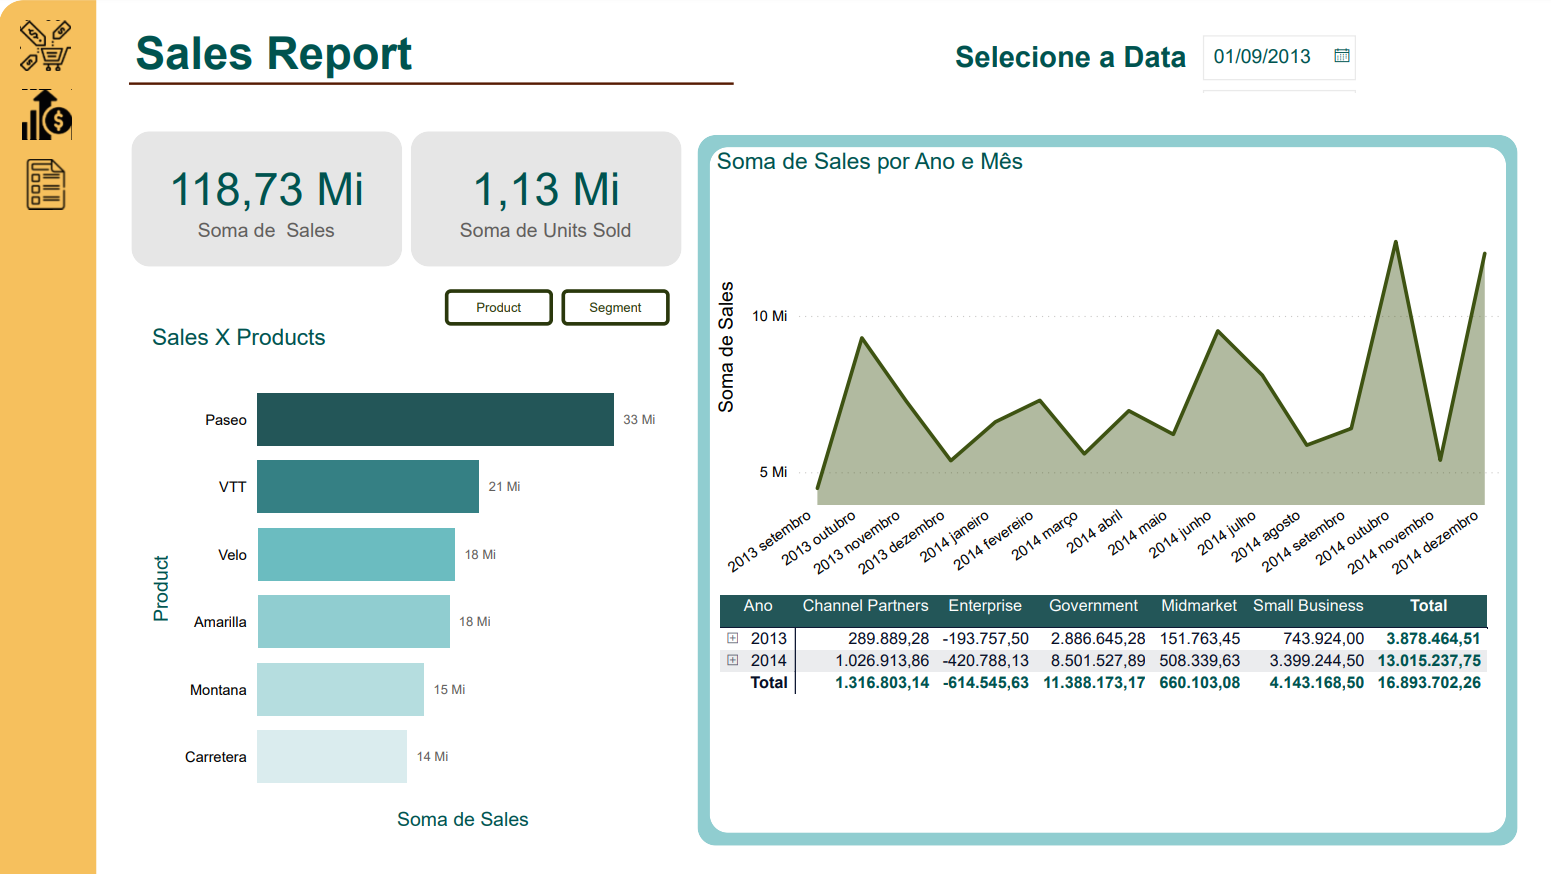

What the dashboard file says about the page in this screenshot:
{"tool":"powerbi","page":{"name":"Sales","canvas":[1280,720],"ordinal":0},"visuals":[{"type":"group","id":"g1","title":"Fundo","box":[0,0,80.3,720],"z":0},{"type":"textbox","box":[782,27.8,211.1,37.9],"z":0,"group":"g6"},{"type":"shape","box":[0,0,80.3,720],"z":1000,"group":"g1"},{"type":"slicer","fields":{"Values":["financials.Date"]},"box":[977.5,19,273.2,57.2],"z":1000,"group":"g6"},{"type":"shape","title":"Linha","box":[107,61,497.8,15.6],"z":1500,"group":"g7"},{"type":"actionButton","box":[13.3,68.9,53.3,51.1],"z":1500,"group":"g1"},{"type":"actionButton","box":[13.3,12.2,53.3,51.1],"z":2000,"group":"g1"},{"type":"textbox","title":"Titulo","box":[107,17.7,273.8,59.6],"z":2000,"group":"g7"},{"type":"group","id":"g2","title":"Fundo dos dados","box":[108.9,107.7,1141,588.5],"z":2000},{"type":"shape","box":[109,228.9,452.7,467.3],"z":2000,"group":"g2"},{"type":"actionButton","box":[13.3,125.6,53.3,51.1],"z":2500,"group":"g1"},{"type":"pivotTable","fields":{"Values":["Sum(financials.Profit)"],"Rows":["financials.Date.Variation.Hierarquia de datas.Ano","financials.Date.Variation.Hierarquia de datas.Trimestre"],"Columns":["financials.Segment"]},"box":[589.1,485.3,650,203.3],"z":2500,"group":"g4"},{"type":"areaChart","fields":{"Y":["Sum(financials. Sales)"],"Category":["financials.Date.Variation.Hierarquia de datas.Ano","financials.Date.Variation.Hierarquia de datas.Mês"]},"box":[585.8,122,656.7,373.3],"z":3000,"group":"g4"},{"type":"group","id":"g3","title":"Sales","box":[121.5,238.5,435.1,450.4],"z":3000},{"type":"group","id":"g4","title":"Sales_Year","box":[585.8,122,656.7,566.7],"z":4000},{"type":"card","fields":{"Values":["Sum(financials. Sales)"]},"box":[115,111.4,210.3,104.5],"z":4007,"group":"g5"},{"type":"card","fields":{"Values":["Sum(financials.Units Sold)"]},"box":[345.3,111.4,210.3,104.5],"z":4015,"group":"g5"},{"type":"clusteredBarChart","title":"Sales X Products","fields":{"Y":["Sum(financials. Sales)"],"Category":["financials.Product"]},"box":[121.5,267.8,435.1,421.1],"z":4750,"group":"g3"},{"type":"group","id":"g5","title":"Cartões","box":[115,111.4,440.6,104.5],"z":5000},{"type":"actionButton","title":"B_Segment","box":[463,238.5,89.1,30],"z":5250,"group":"g3"},{"type":"actionButton","title":"B_Product","box":[367.6,238.5,89.1,30],"z":5750,"group":"g3"},{"type":"group","id":"g6","title":"Data","box":[782,19,468.7,57.2],"z":6000},{"type":"shape","box":[574.9,110.9,675,585],"z":6000,"group":"g2"},{"type":"group","id":"g7","title":"Titulo","box":[107,17.7,497.8,59.6],"z":7000},{"type":"shape","box":[584.5,121,655.6,564.4],"z":7125,"group":"g2"},{"type":"shape","box":[338.8,107.7,222.8,111.4],"z":8250,"group":"g2"},{"type":"shape","box":[108.9,107.7,222.8,111.4],"z":8500,"group":"g2"}]}

Visuals, with their boxes in screenshot pixels (x1, y1, x2, y2), scaled from the page's 1280x720 canvas onto the 1551x874 screenshot:
"Fundo" group: (0, 0, 97, 873)
textbox: (948, 34, 1203, 80)
shape: (0, 0, 97, 873)
slicer - financials.Date: (1184, 23, 1515, 92)
"Linha" shape: (130, 74, 733, 93)
actionButton: (16, 84, 81, 146)
actionButton: (16, 15, 81, 77)
"Titulo" textbox: (130, 21, 461, 94)
"Fundo dos dados" group: (132, 131, 1515, 845)
shape: (132, 278, 681, 845)
actionButton: (16, 152, 81, 214)
pivotTable - Sum(financials.Profit) x financials.Date.Variation.Hierarquia de datas.Ano: (714, 589, 1501, 836)
areaChart - Sum(financials. Sales) x financials.Date.Variation.Hierarquia de datas.Ano: (710, 148, 1506, 601)
"Sales" group: (147, 290, 674, 836)
"Sales_Year" group: (710, 148, 1506, 836)
card - Sum(financials. Sales): (139, 135, 394, 262)
card - Sum(financials.Units Sold): (418, 135, 673, 262)
"Sales X Products" clusteredBarChart: (147, 325, 674, 836)
"Cartões" group: (139, 135, 673, 262)
"B_Segment" actionButton: (561, 290, 669, 326)
"B_Product" actionButton: (445, 290, 553, 326)
"Data" group: (948, 23, 1515, 92)
shape: (697, 135, 1515, 845)
"Titulo" group: (130, 21, 733, 94)
shape: (708, 147, 1503, 832)
shape: (411, 131, 681, 266)
shape: (132, 131, 402, 266)
